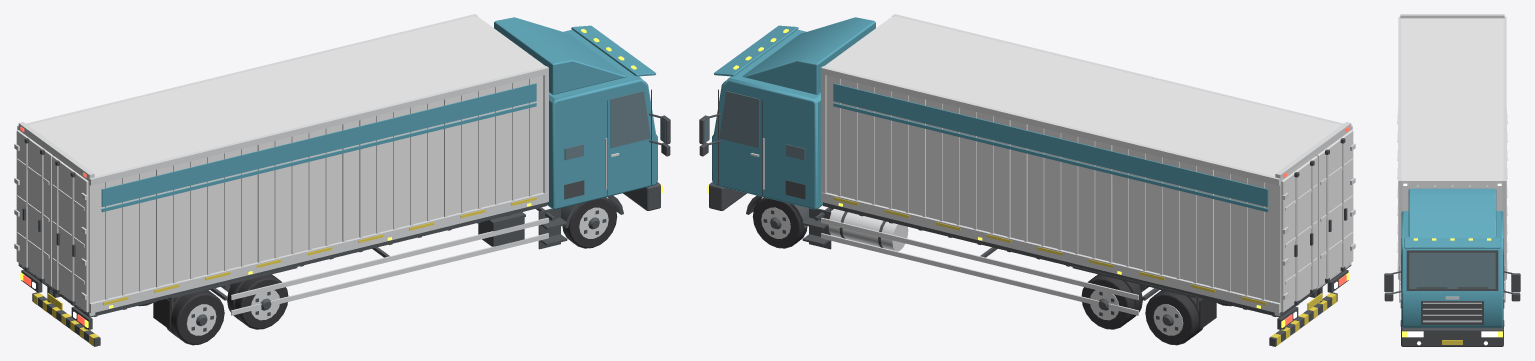
File: truck_32.glb
3 renders of one model, left to right at view 1: azimuth 30°, elevation 25°; view 2: azimuth 150°, elevation 25°; view 3: azimuth 270°, elevation 25°, orthographic. The views are drawn at different scales.
Parts seen in each view (by area): view 1: shell_node__shell, root__chrome, root__livery, shell_node__livery, root__chassis, opt_deflector__livery, door_r__shell, door_l__shell, root__glass, wheel_r0_r__tyre, wheel_r1_r__tyre, root__hazard_yellow (+9 smaller); view 2: shell_node__shell, root__chrome, root__livery, shell_node__livery, root__chassis, opt_deflector__livery, door_l__shell, door_r__shell, root__glass, wheel_r0_l__tyre, wheel_r1_l__tyre, root__hazard_yellow (+8 smaller); view 3: shell_node__shell, opt_deflector__livery, root__livery, root__glass, root__chrome, root__chassis, root__chassis.001, opt_visor__livery, root__chassis.002, root__lamp_white, root__hazard_yellow.
Part boxes in pixels (x1,y1,x2,y2): shell_node__shell: (19, 16, 545, 311); root__chrome: (17, 14, 619, 316); root__livery: (547, 29, 657, 209); shell_node__livery: (101, 83, 536, 212); root__chassis: (18, 82, 662, 346); opt_deflector__livery: (494, 17, 627, 94); door_r__shell: (52, 156, 88, 312); door_l__shell: (16, 130, 52, 286); root__glass: (564, 91, 665, 160); wheel_r0_r__tyre: (166, 290, 224, 345); wheel_r1_r__tyre: (227, 274, 288, 329); root__hazard_yellow: (33, 197, 536, 345); shell_node__shell: (824, 16, 1341, 312); root__chrome: (750, 14, 1352, 316); root__livery: (712, 29, 822, 209); shell_node__livery: (833, 83, 1268, 212); root__chassis: (707, 82, 1351, 346); opt_deflector__livery: (742, 17, 875, 94); door_l__shell: (1281, 156, 1317, 312); door_r__shell: (1317, 130, 1353, 286); root__glass: (704, 91, 805, 160); wheel_r0_l__tyre: (1145, 290, 1203, 345); wheel_r1_l__tyre: (1081, 274, 1142, 329); root__hazard_yellow: (833, 197, 1336, 345); shell_node__shell: (1401, 18, 1503, 211); opt_deflector__livery: (1408, 188, 1496, 237); root__livery: (1401, 211, 1503, 327); root__glass: (1401, 239, 1503, 289); root__chrome: (1398, 14, 1506, 322); root__chassis: (1392, 239, 1512, 324); root__chassis.001: (1401, 326, 1503, 346); opt_visor__livery: (1404, 238, 1500, 248); root__chassis.002: (1384, 273, 1520, 301); root__lamp_white: (1403, 183, 1501, 345); root__hazard_yellow: (1397, 114, 1507, 344).
Bounding box in the file's own units: 11.8 × 3.87 × 3.26.
